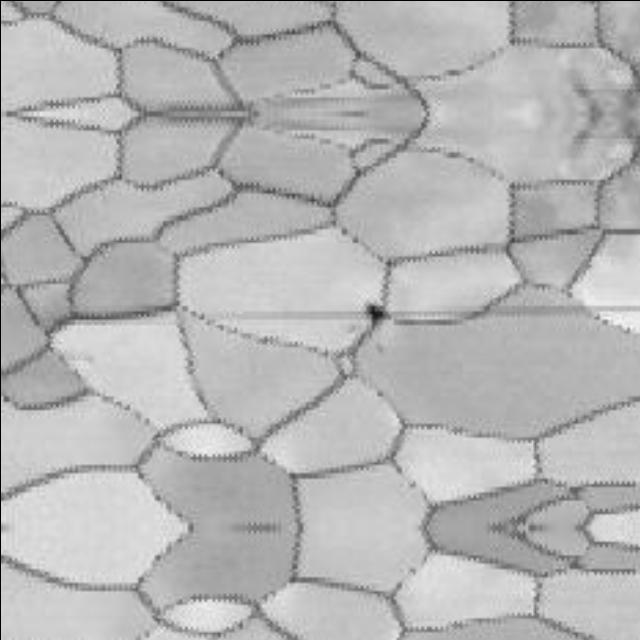good_void: (364, 302, 390, 326)
